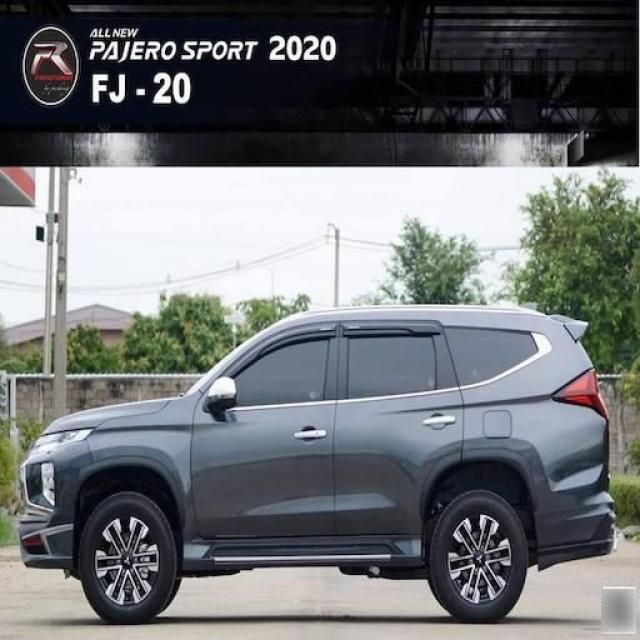back_left_door: (334, 319, 465, 535)
back_left_light: (555, 367, 611, 422)
front_left_door: (191, 321, 339, 538)
front_left_light: (28, 428, 97, 460)
left_mirror: (208, 377, 236, 416)
wheel: (80, 491, 530, 624)
